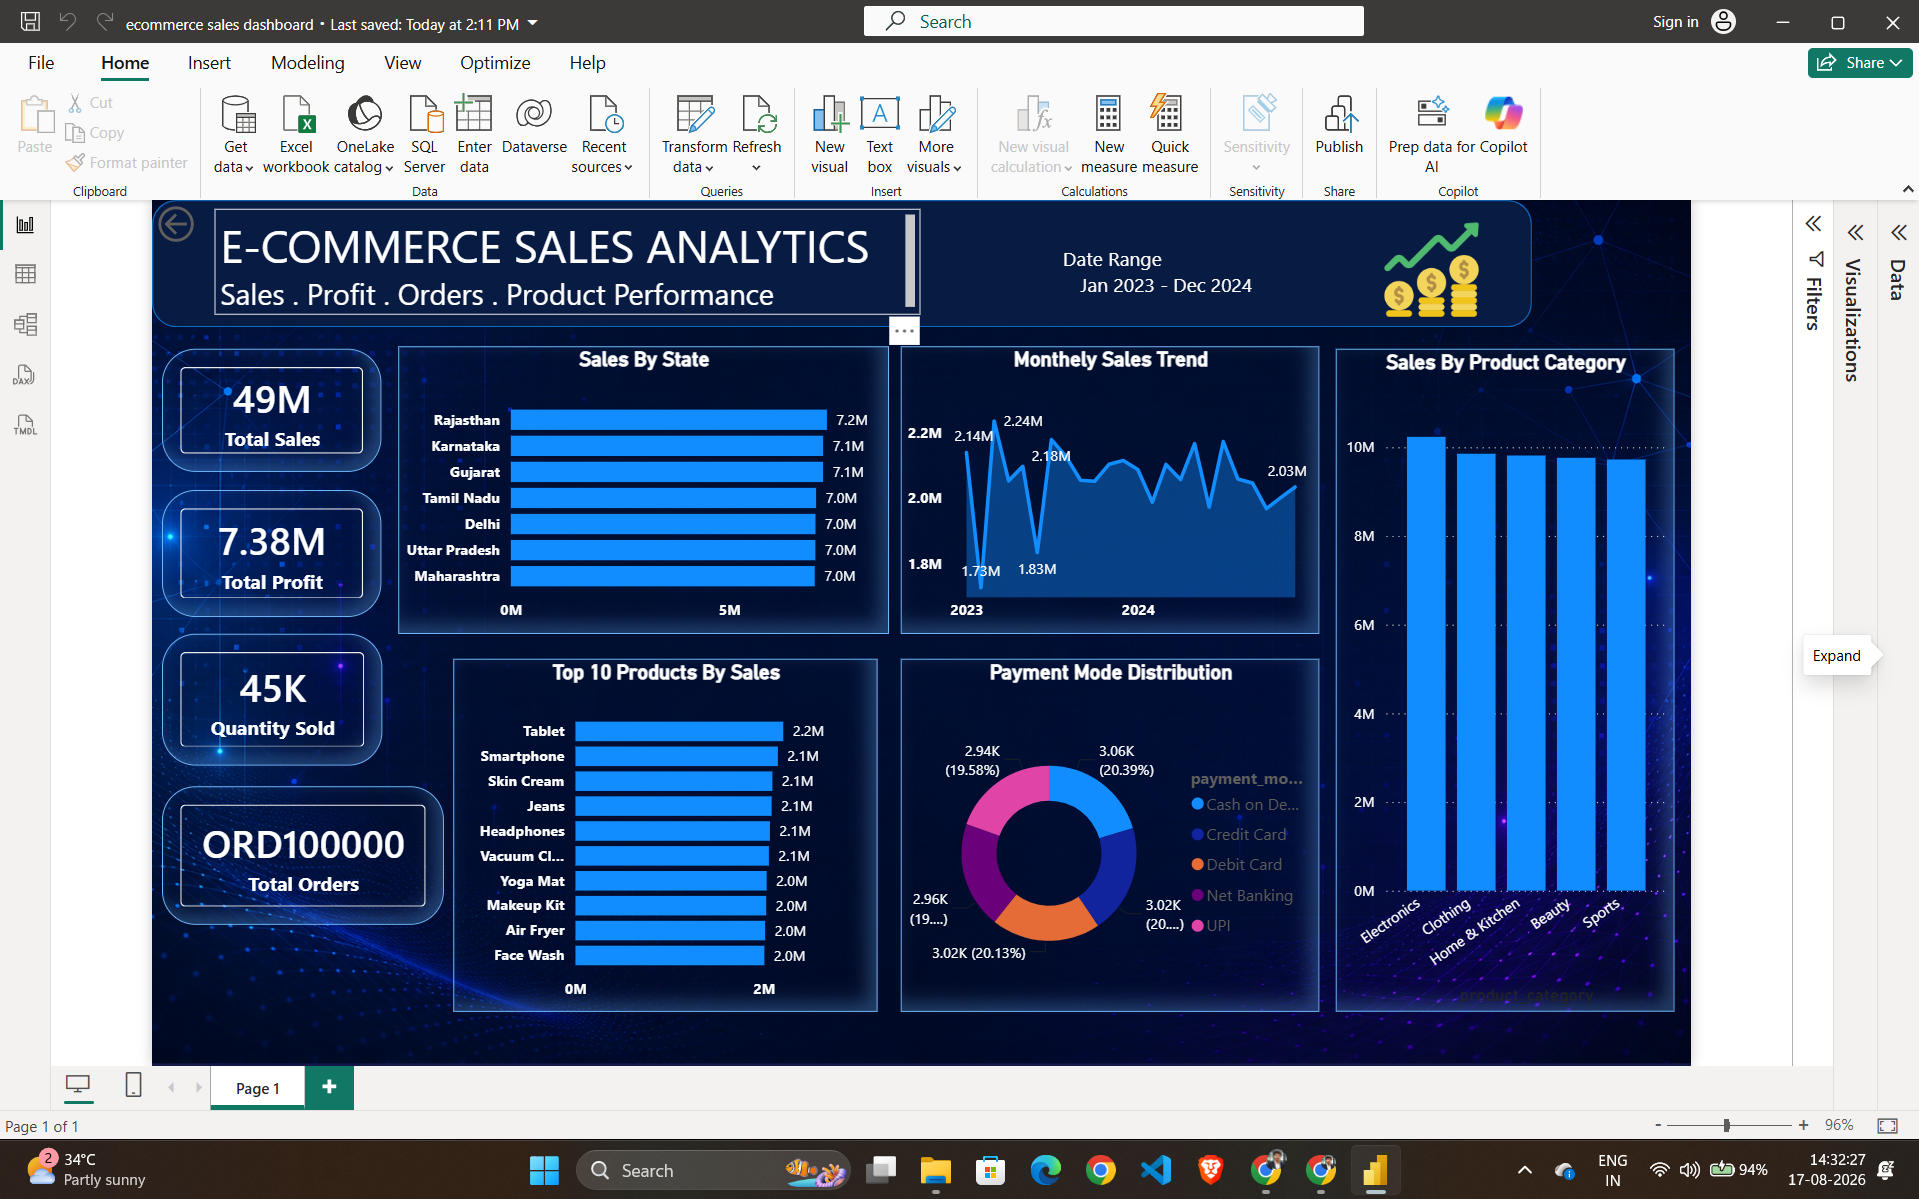

The dashboard page shown, as its layout file describes it:
{"tool":"powerbi","page":{"name":"Page 1","canvas":[1280,720],"ordinal":0},"visuals":[{"type":"shape","box":[0,0,1147.3,105.7],"z":0},{"type":"textbox","box":[52.3,7.1,587.2,89],"z":1000},{"type":"textbox","box":[752.6,32.5,185,65],"z":2000},{"type":"image","box":[927.4,18.8,273.8,78.8],"z":3000},{"type":"cardVisual","fields":{"Data":["Sum(ecom ecom_sales.sales_amount)"]},"box":[8.3,123.6,182.6,102.3],"z":4000},{"type":"cardVisual","fields":{"Data":["Sum(ecom ecom_sales.profit)"]},"box":[8.3,241.3,182.6,105.8],"z":5000},{"type":"cardVisual","fields":{"Data":["Min(ecom ecom_sales.order_id)"]},"box":[8.3,487.4,234.2,115.3],"z":6000},{"type":"cardVisual","fields":{"Data":["Sum(ecom ecom_sales.quantity)"]},"box":[8.3,360.2,183.1,109.4],"z":7000},{"type":"lineChart","title":"Monthely Sales Trend","fields":{"Y":["Sum(ecom ecom_sales.sales_amount)"],"Category":["ecom ecom_sales.order_date.Variation.Date Hierarchy.Year","ecom ecom_sales.order_date.Variation.Date Hierarchy.Month"]},"box":[622.9,121.2,348.3,238.9],"z":8000},{"type":"clusteredColumnChart","title":"Sales By Product Category","fields":{"Category":["ecom ecom_sales.product_category"],"Y":["Sum(ecom ecom_sales.sales_amount)"]},"box":[984.3,123.6,281.7,551.6],"z":9000},{"type":"actionButton","box":[0,0,100,40],"z":10000},{"type":"clusteredBarChart","title":"Sales By State ","fields":{"Category":["ecom ecom_sales.state"],"Y":["Sum(ecom ecom_sales.sales_amount)"]},"box":[204.5,121.2,407.7,238.9],"z":11000},{"type":"donutChart","title":"Payment Mode Distribution","fields":{"Category":["ecom ecom_sales.payment_mode"],"Y":["CountNonNull(ecom ecom_sales.order_id)"]},"box":[622.9,381.6,348.3,293.6],"z":12000},{"type":"clusteredBarChart","title":"Top 10 Products By Sales","fields":{"Category":["ecom ecom_sales.product_name"],"Y":["Sum(ecom ecom_sales.sales_amount)"]},"box":[250.8,381.6,353,293.6],"z":13000}]}

Visuals, with their boxes on the page's 1280x720 design canvas (x1, y1, x2, y2). These are canvas units, not pixel positions in the 1919x1199 screenshot, which may show the page scaled, cropped or inside an application window:
shape: {"x1": 0, "y1": 0, "x2": 1147, "y2": 106}
textbox: {"x1": 52, "y1": 7, "x2": 640, "y2": 96}
textbox: {"x1": 753, "y1": 32, "x2": 938, "y2": 98}
image: {"x1": 927, "y1": 19, "x2": 1201, "y2": 98}
cardVisual - Sum(ecom ecom_sales.sales_amount): {"x1": 8, "y1": 124, "x2": 191, "y2": 226}
cardVisual - Sum(ecom ecom_sales.profit): {"x1": 8, "y1": 241, "x2": 191, "y2": 347}
cardVisual - Min(ecom ecom_sales.order_id): {"x1": 8, "y1": 487, "x2": 242, "y2": 603}
cardVisual - Sum(ecom ecom_sales.quantity): {"x1": 8, "y1": 360, "x2": 191, "y2": 470}
"Monthely Sales Trend" lineChart: {"x1": 623, "y1": 121, "x2": 971, "y2": 360}
"Sales By Product Category" clusteredColumnChart: {"x1": 984, "y1": 124, "x2": 1266, "y2": 675}
actionButton: {"x1": 0, "y1": 0, "x2": 100, "y2": 40}
"Sales By State " clusteredBarChart: {"x1": 204, "y1": 121, "x2": 612, "y2": 360}
"Payment Mode Distribution" donutChart: {"x1": 623, "y1": 382, "x2": 971, "y2": 675}
"Top 10 Products By Sales" clusteredBarChart: {"x1": 251, "y1": 382, "x2": 604, "y2": 675}
